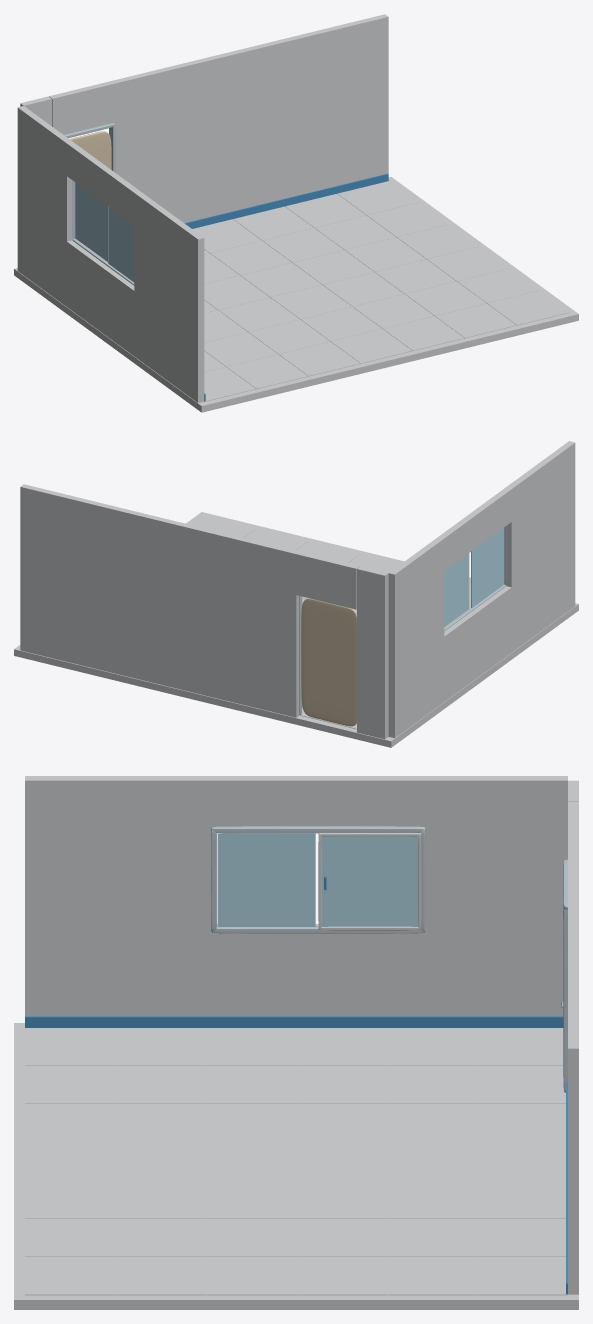
The model's file is engineer_hq.glb.
3 renders of one model, top to bottom at view 1: azimuth 30°, elevation 25°; view 2: azimuth 150°, elevation 25°; view 3: azimuth 270°, elevation 25°, orthographic. The views are drawn at different scales.
Parts seen in each view (by area): view 1: Rear_Wall_Right, Left_Wall_Front, Left_Wall_Rear, Floor_Slab, Window_Lower_Wall, Window_Upper_Wall, Door_Lintel, Window_Moving_Glass, Rear_Blue_Skirting, Floor_Tile_1_5, Floor_Tile_2_5, Floor_Tile_3_5 (+33 smaller); view 2: Rear_Wall_Right, Left_Wall_Front, Left_Wall_Rear, Entrance_Door, Floor_Slab, Rear_Wall_Left, Window_Lower_Wall, Door_Lintel, Window_Upper_Wall, Window_Fixed_Glass, Window_Moving_Glass, Floor_Tile_5_5 (+3 smaller); view 3: Left_Wall_Front, Left_Wall_Rear, Window_Lower_Wall, Floor_Slab, Window_Upper_Wall, Window_Fixed_Glass, Window_Moving_Glass, Left_Blue_Skirting, Rear_Wall_Right, Floor_Tile_6_1, Floor_Tile_6_2, Floor_Tile_6_3 (+42 smaller).
Boxes of the visible parts, <box> form: Rear_Wall_Right: <box>109,14,388,223</box>; Left_Wall_Front: <box>134,191,204,402</box>; Left_Wall_Rear: <box>17,106,72,306</box>; Floor_Slab: <box>14,177,578,412</box>; Window_Lower_Wall: <box>67,240,134,355</box>; Window_Upper_Wall: <box>67,142,139,224</box>; Door_Lintel: <box>49,81,112,134</box>; Window_Moving_Glass: <box>75,183,108,261</box>; Rear_Blue_Skirting: <box>184,173,388,228</box>; Floor_Tile_1_5: <box>227,354,308,389</box>; Floor_Tile_2_5: <box>278,341,360,376</box>; Floor_Tile_3_5: <box>331,329,412,363</box>; Rear_Wall_Right: <box>20,484,299,717</box>; Left_Wall_Front: <box>505,441,575,652</box>; Left_Wall_Rear: <box>388,537,444,738</box>; Entrance_Door: <box>301,598,356,726</box>; Floor_Slab: <box>14,512,578,747</box>; Rear_Wall_Left: <box>357,566,388,739</box>; Window_Lower_Wall: <box>444,586,511,701</box>; Door_Lintel: <box>296,551,359,609</box>; Window_Upper_Wall: <box>438,488,511,570</box>; Window_Fixed_Glass: <box>471,527,504,607</box>; Window_Moving_Glass: <box>444,553,468,626</box>; Floor_Tile_5_5: <box>244,528,308,550</box>; Left_Wall_Front: <box>25,776,216,1016</box>; Left_Wall_Rear: <box>419,776,567,1016</box>; Window_Lower_Wall: <box>216,924,419,1016</box>; Floor_Slab: <box>14,1023,578,1309</box>; Window_Upper_Wall: <box>216,776,419,826</box>; Window_Fixed_Glass: <box>217,833,315,926</box>; Window_Moving_Glass: <box>321,836,418,926</box>; Left_Blue_Skirting: <box>25,1016,563,1027</box>; Rear_Wall_Right: <box>568,845,578,1294</box>; Floor_Tile_6_1: <box>387,1256,477,1295</box>; Floor_Tile_6_2: <box>296,1256,386,1295</box>; Floor_Tile_6_3: <box>206,1256,296,1295</box>.
Size of the model in its own units: 7.24 by 3.13 by 6.24.
